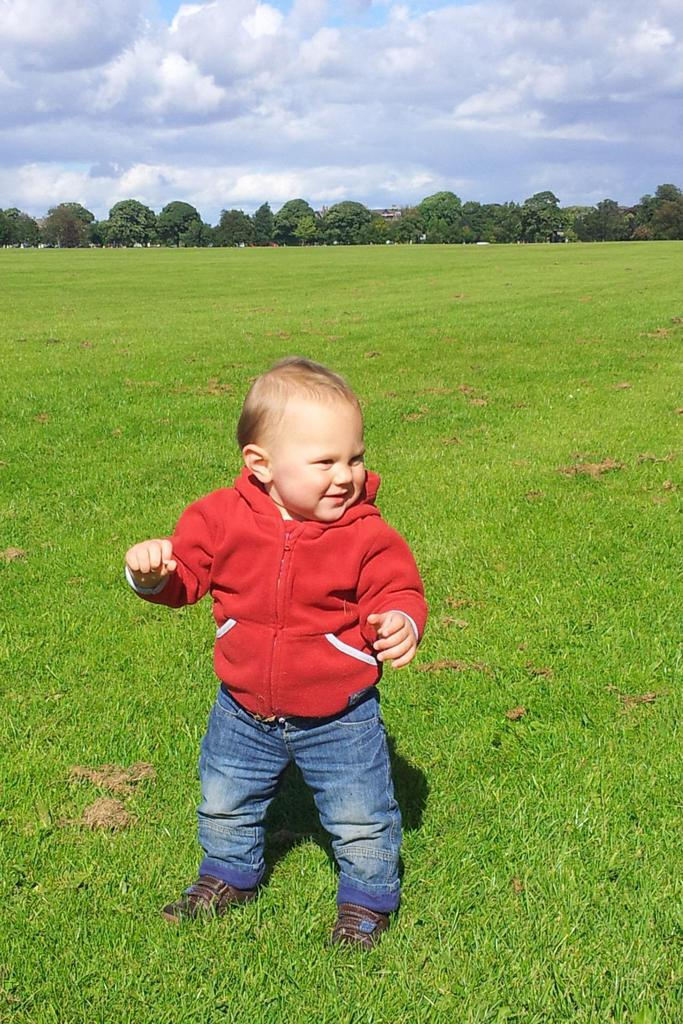child: (109, 341, 486, 969)
